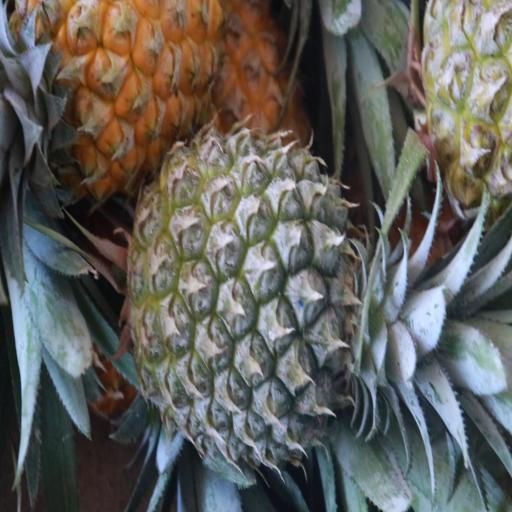Pineapple - v8 v1: (15, 0, 216, 195)
